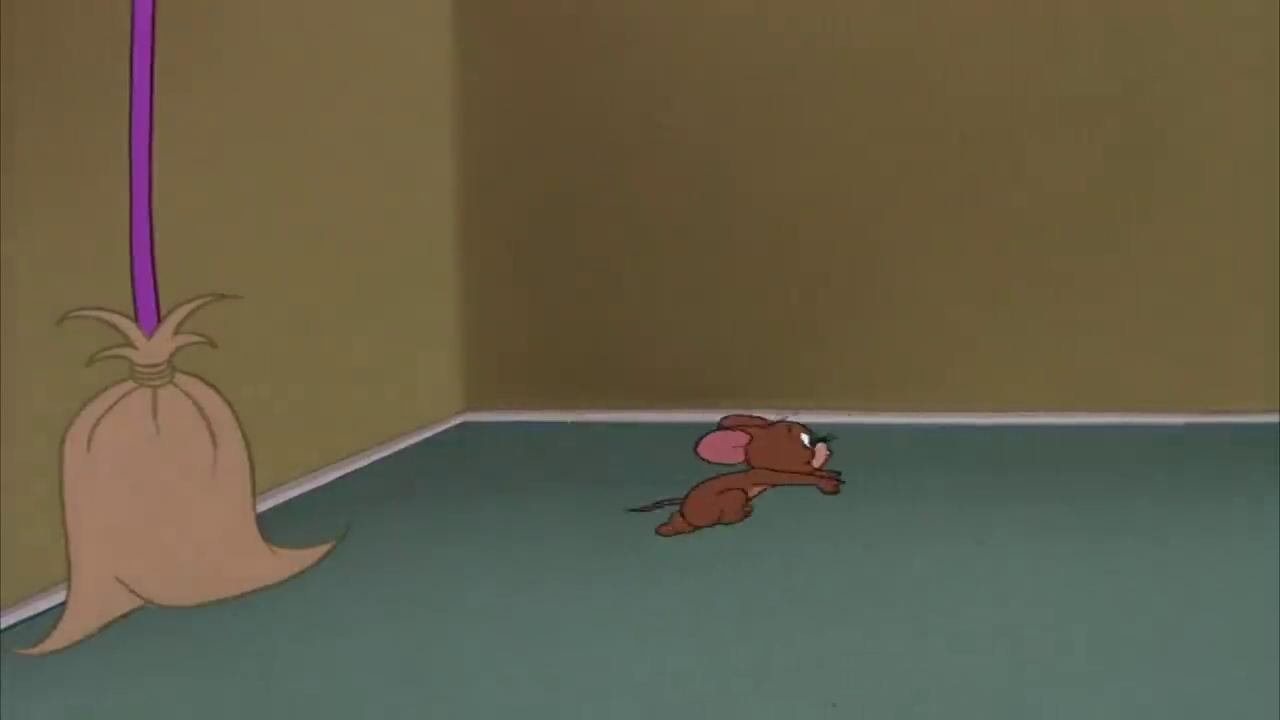Jerry: (628, 410, 847, 538)
